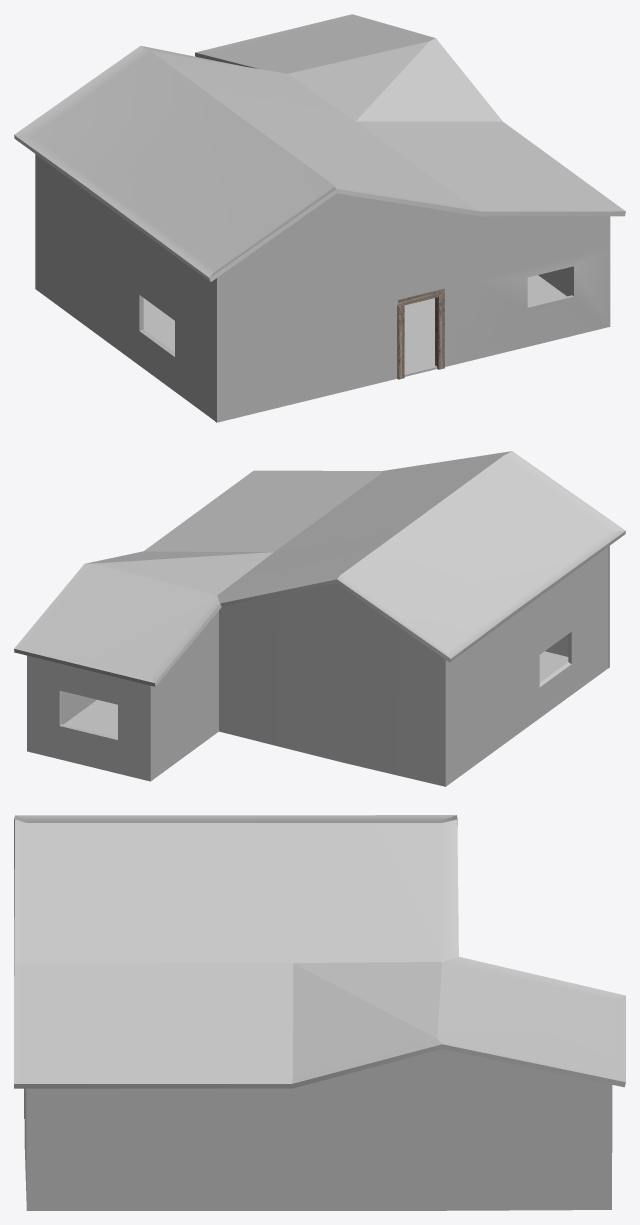
File: FarmBuilding3.fbx
3 views of the same model, one above another, from view 1: azimuth 30°, elevation 25°; view 2: azimuth 150°, elevation 25°; view 3: azimuth 270°, elevation 25° (orthographic). The views are drawn at different scales.
Visible parts, largest first — view 1: polySurface7; view 2: polySurface7; view 3: polySurface7.
Part boxes in pixels (bbox=[...]): polySurface7: bbox=[14, 14, 625, 422]; polySurface7: bbox=[14, 451, 625, 786]; polySurface7: bbox=[14, 815, 625, 1210].
Bounding box in the file's own units: 1592 × 767 × 1794.
